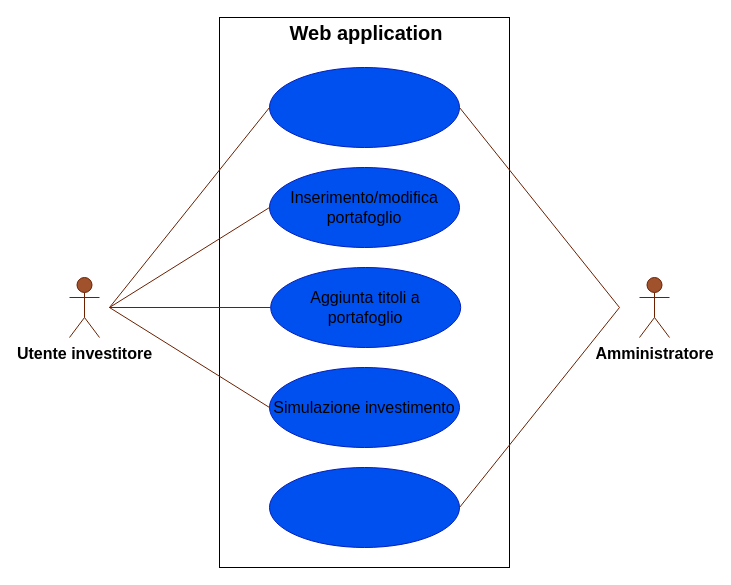
The diagram is 731 pixels wide and 585 high, and some of its shapes have lost their labels. Here are the shapes that lost their labels. From the top down, the centre of each, then its label:
At (364,107): "Login/Logout".
At (364,507): "Inserimento/Modifica/ Cancellazione titoli".
